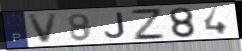4: (204, 6, 231, 36)
8: (168, 6, 197, 39), (66, 12, 92, 42)
J: (103, 11, 128, 40)
V: (26, 12, 61, 45)
Z: (128, 9, 168, 42)
